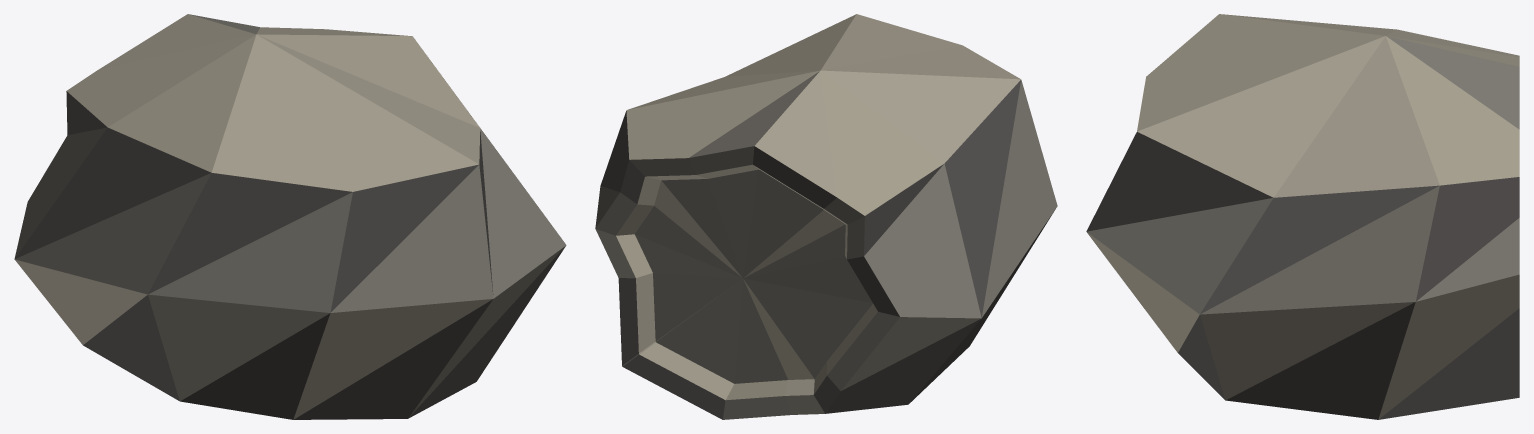
The model's file is RawOpenStone.fbx.
3 renders of one model, left to right at view 1: azimuth 30°, elevation 25°; view 2: azimuth 150°, elevation 25°; view 3: azimuth 270°, elevation 25°, orthographic. The views are drawn at different scales.
Parts seen in each view (by area): view 1: RawOpenStone_Mesh; view 2: RawOpenStone_Mesh; view 3: RawOpenStone_Mesh.
Boxes of the visible parts, box(x1,y1,x2,y2) form: RawOpenStone_Mesh: box(14, 14, 566, 419); RawOpenStone_Mesh: box(595, 14, 1057, 419); RawOpenStone_Mesh: box(1086, 14, 1519, 419).
Size of the model in its own units: 0.55 by 0.45 by 0.5.
